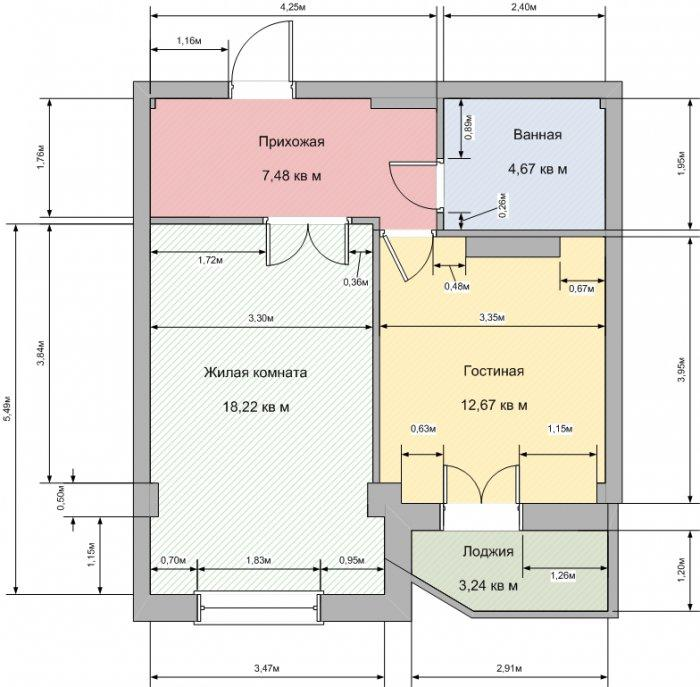balcony: (412, 529, 608, 611)
bathroom: (444, 98, 605, 231)
bedroom: (150, 225, 383, 596)
hallway: (151, 99, 436, 230)
living_room: (381, 237, 606, 503)
